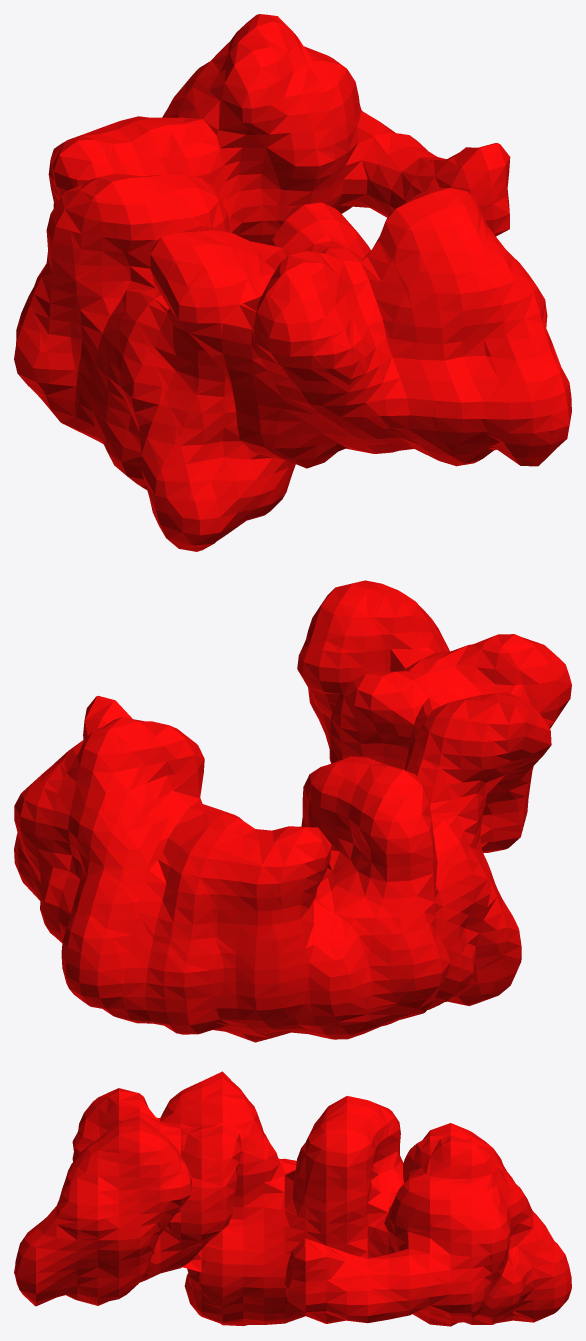
The model's file is dsdX_coarse.dae.
3 views of the same model, one above another, from view 1: azimuth 30°, elevation 25°; view 2: azimuth 150°, elevation 25°; view 3: azimuth 270°, elevation 25° (orthographic). The views are drawn at different scales.
Parts seen in each view (by area): view 1: dsdX; view 2: dsdX; view 3: dsdX.
Part boxes in pixels (x1,y1,x2,y2): dsdX: [14, 14, 571, 551]; dsdX: [14, 580, 571, 1042]; dsdX: [14, 1071, 571, 1326].
Bounding box in the file's own units: 70.86 × 55.47 × 106.
